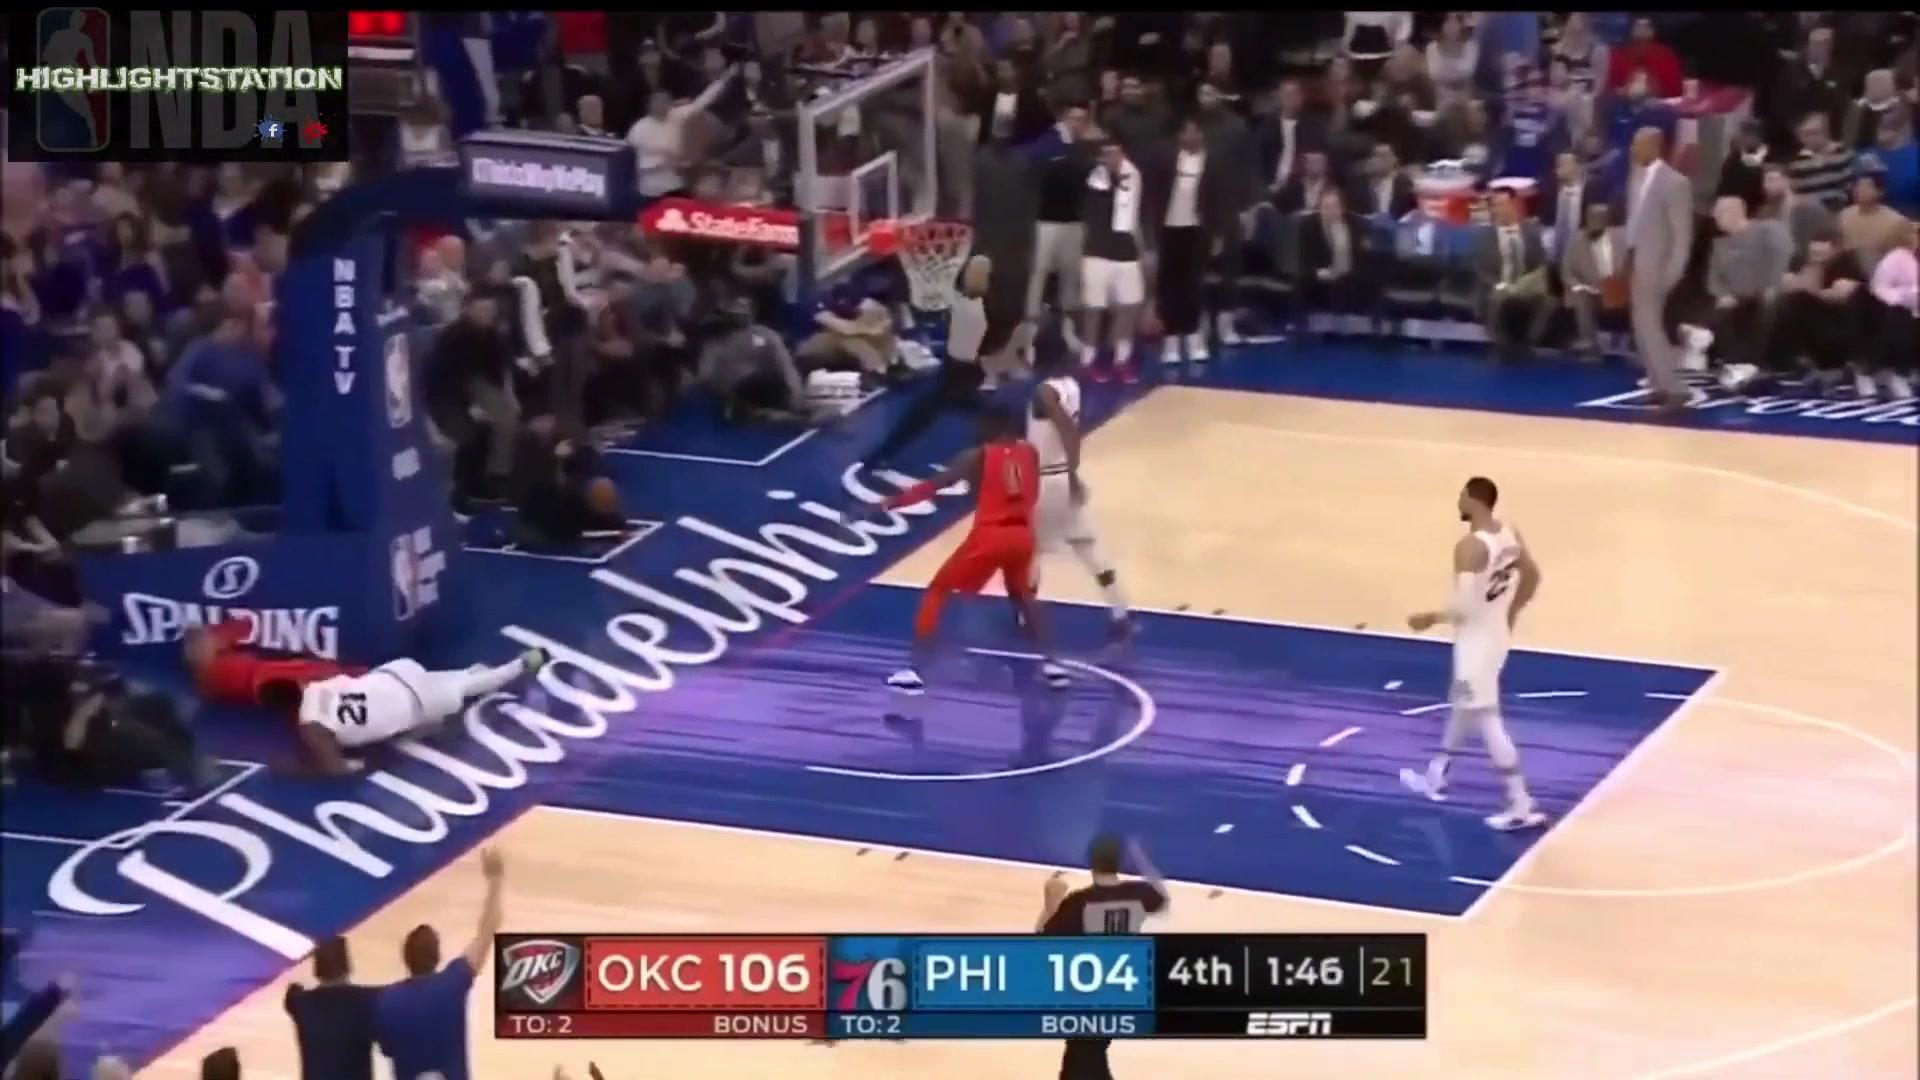no_foul: (889, 334, 1151, 684)
